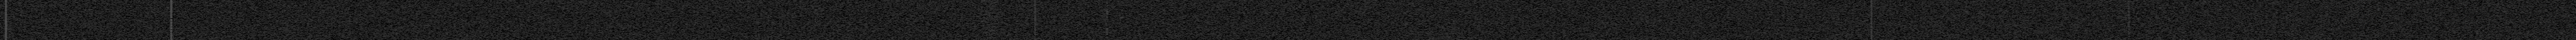wv_am: (169, 0, 172, 40), (2127, 0, 2131, 40)
wv_cw: (1870, 0, 1873, 40), (5, 0, 8, 40), (1033, 0, 1037, 40)
wv_lsb: (1106, 8, 1109, 40), (1106, 0, 1109, 7)
wv_usb: (5, 3, 8, 40), (5, 0, 8, 3)
wv_wbfm: (979, 0, 1000, 40)
